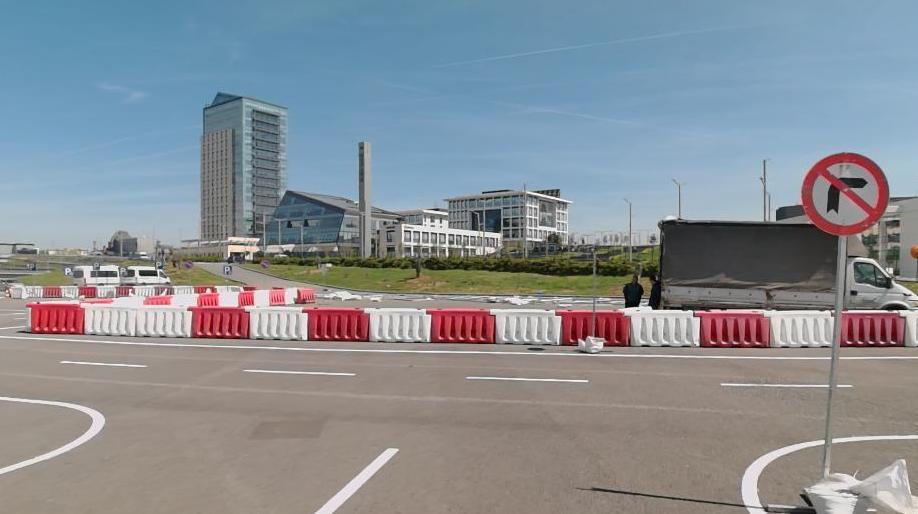nesne: (0, 332, 917, 514), (311, 372, 852, 513), (1, 357, 480, 514), (26, 299, 909, 350), (658, 220, 917, 310), (1, 335, 782, 359), (0, 396, 105, 474), (799, 149, 891, 237), (796, 456, 918, 513), (739, 438, 827, 513), (820, 237, 846, 474), (312, 446, 398, 512), (76, 286, 314, 306), (76, 302, 192, 337), (7, 284, 242, 297), (621, 308, 699, 347), (693, 310, 769, 347), (488, 307, 560, 344), (300, 304, 371, 340), (424, 305, 493, 342), (362, 305, 432, 340), (766, 310, 831, 347), (242, 304, 308, 340), (838, 312, 904, 347), (183, 304, 250, 338), (28, 303, 85, 333), (554, 308, 595, 345), (597, 309, 629, 346), (119, 264, 171, 284), (70, 264, 120, 283), (467, 376, 590, 383), (620, 273, 644, 307), (243, 368, 354, 375), (834, 433, 917, 442), (62, 360, 146, 367), (721, 382, 824, 387), (647, 272, 660, 308), (8, 285, 41, 297), (576, 336, 603, 350), (111, 295, 144, 306), (296, 286, 315, 303), (840, 355, 917, 359), (252, 288, 268, 306), (130, 284, 156, 295), (171, 284, 196, 295), (216, 292, 237, 305), (282, 286, 298, 303), (268, 287, 284, 304), (112, 286, 135, 297), (96, 285, 117, 297), (60, 284, 79, 297), (196, 294, 218, 305), (152, 283, 172, 295), (170, 296, 195, 305), (772, 355, 827, 359), (40, 286, 60, 297), (195, 285, 217, 295), (237, 291, 252, 305), (143, 297, 169, 305), (79, 285, 96, 297), (217, 285, 240, 293), (836, 382, 851, 386)
